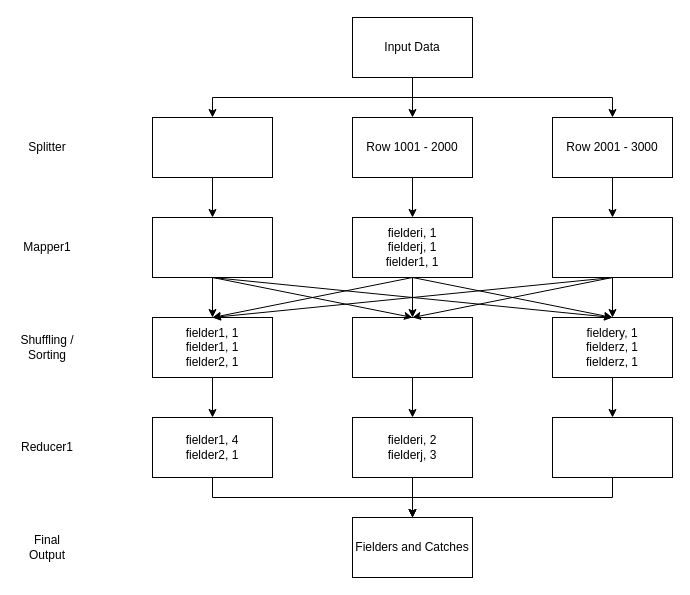
Some shapes in this 690 by 595 pixel diagram are drawn without their labels. The centre of each missing label's shape, as x and y in pixels:
"fielder1, 1 fielder2, 1 fielder1, 1" goes at (x=212, y=247).
"fielderi, 1 fielderj, 1 fielderj, 1" goes at (x=412, y=347).
"fielderx, 1 fieldery, 1 fielderz, 1" goes at (x=612, y=247).
"fieldery, 1 fielderz, 3" goes at (x=612, y=447).
"Row 1 - 1000" goes at (x=212, y=147).
